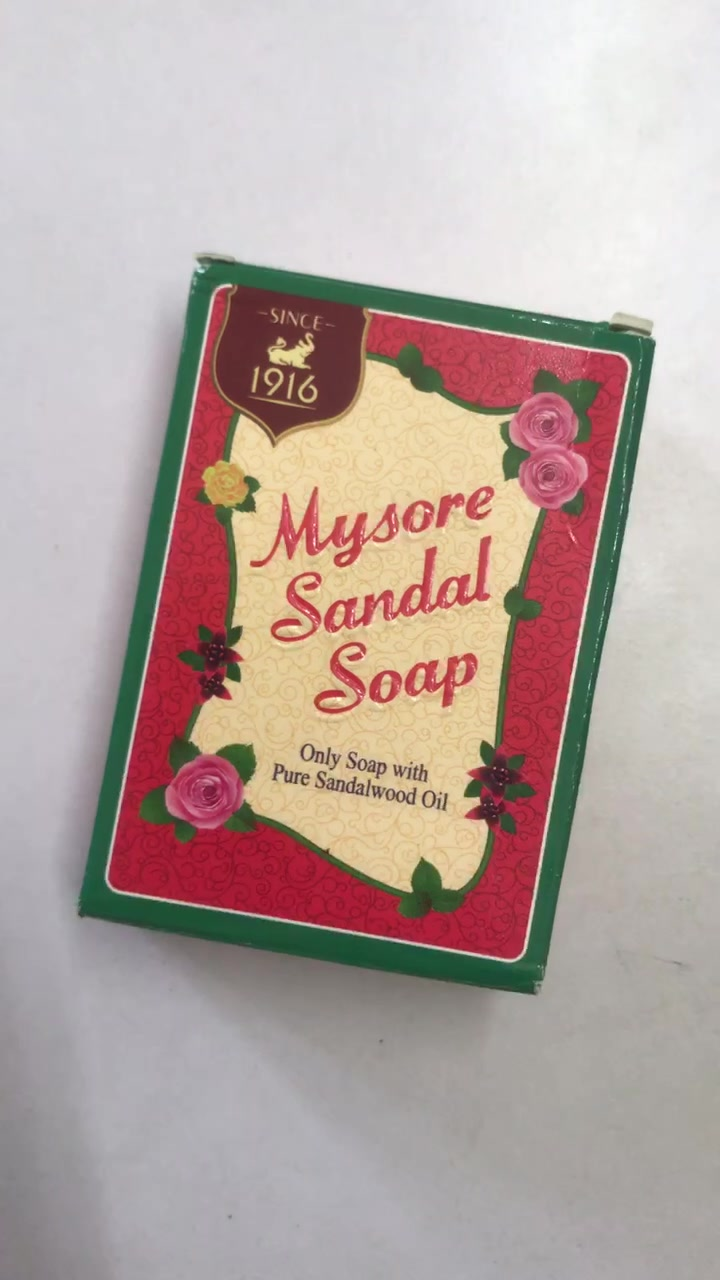mysore sandal soap: (83, 252, 655, 995)
